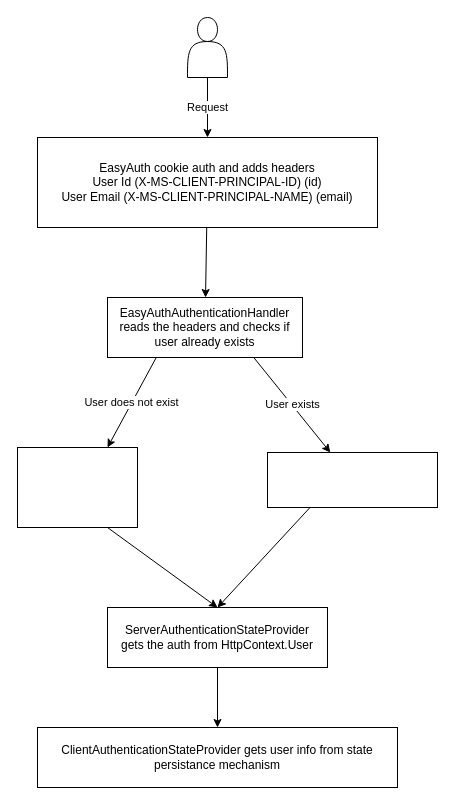
Image size: 455x805. Some labels were removed from this diagram. The shapes that lost their labels are listed below. From the top down, each one's centre as x and y in pixels, then its label:
At (x=77, y=487): "Create User and redirect to SetUserName page".
At (x=352, y=480): "Read the username and role claims from db/cache".
